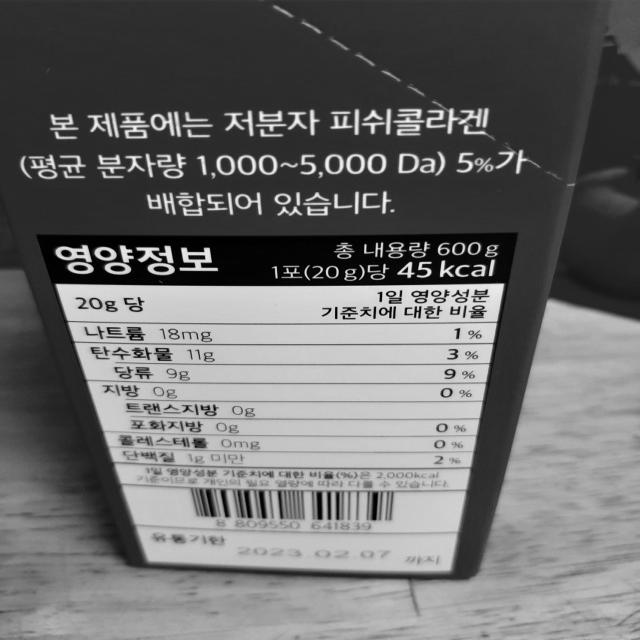Nutrition Label: (13, 227, 512, 493)
